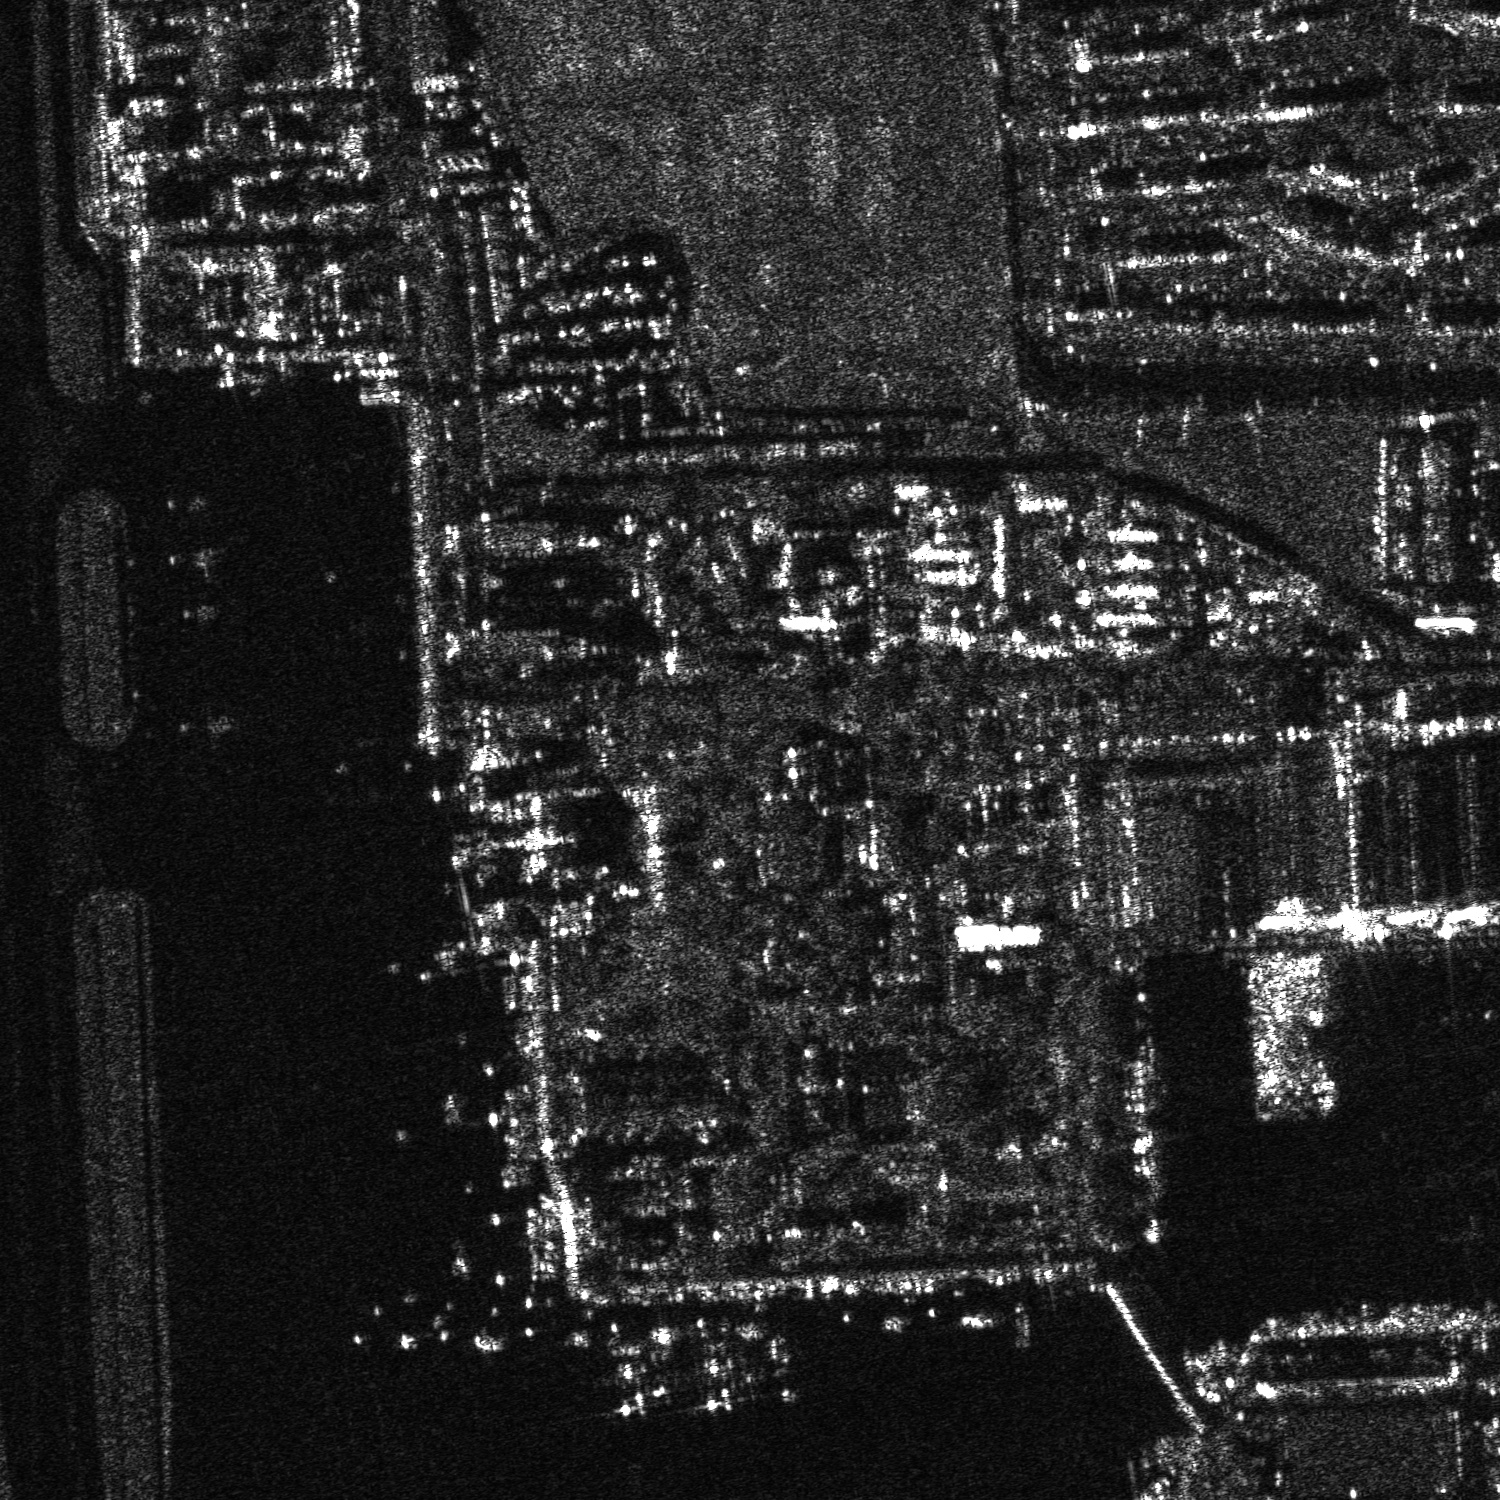ARJ21: (740, 1324, 832, 1407), (154, 538, 235, 589), (170, 592, 228, 633)
Boeing737: (596, 1332, 672, 1420)
other: (679, 1337, 743, 1419), (174, 701, 243, 753), (162, 488, 218, 516)
